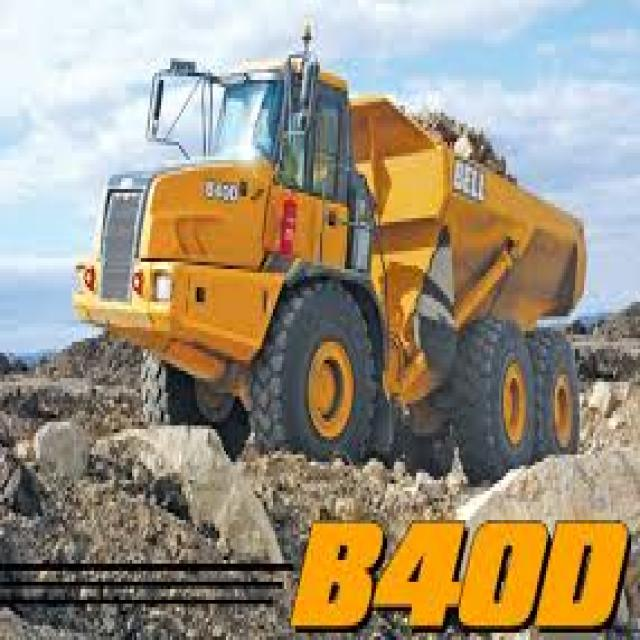dump_truck: (62, 33, 608, 502)
